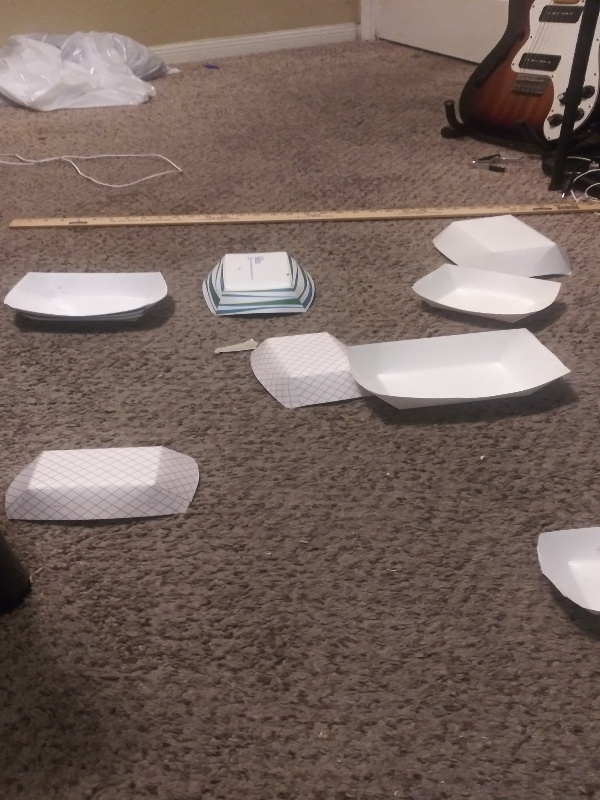plate: (348, 325, 575, 413), (3, 444, 203, 527), (243, 329, 377, 411), (1, 268, 173, 330), (407, 259, 565, 325), (429, 211, 575, 279), (196, 249, 319, 319), (530, 520, 597, 637)
